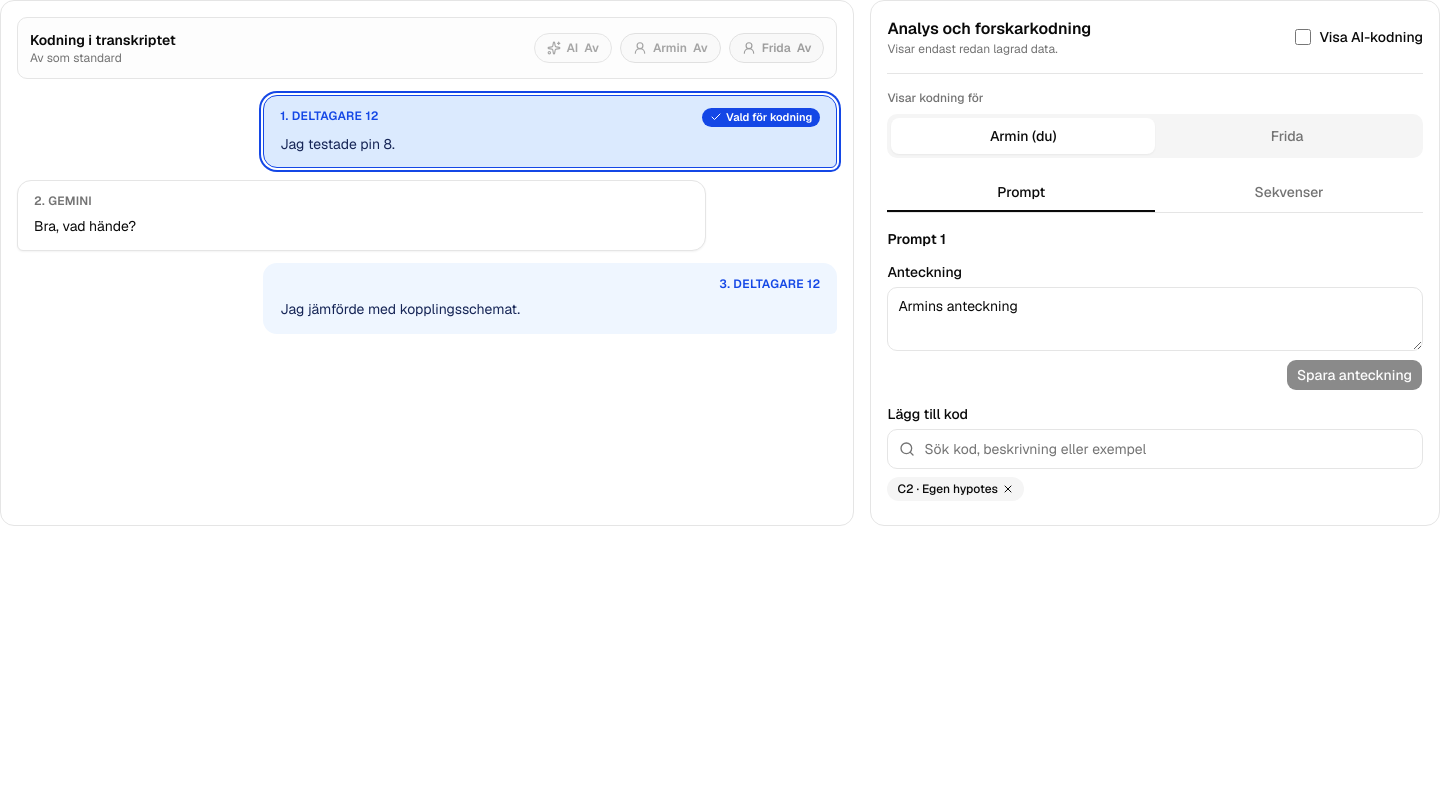
Test: TranscriptWorkspace › saving researcher coding › saves a prompt code as soon as it is chosen, without the unsaved note
This screenshot has width=1440, height=810.
Replace the text in the text box labelled "Anteckning" with "En tanke som inte är klar" at [1155, 319], box [887,287,1423,351]
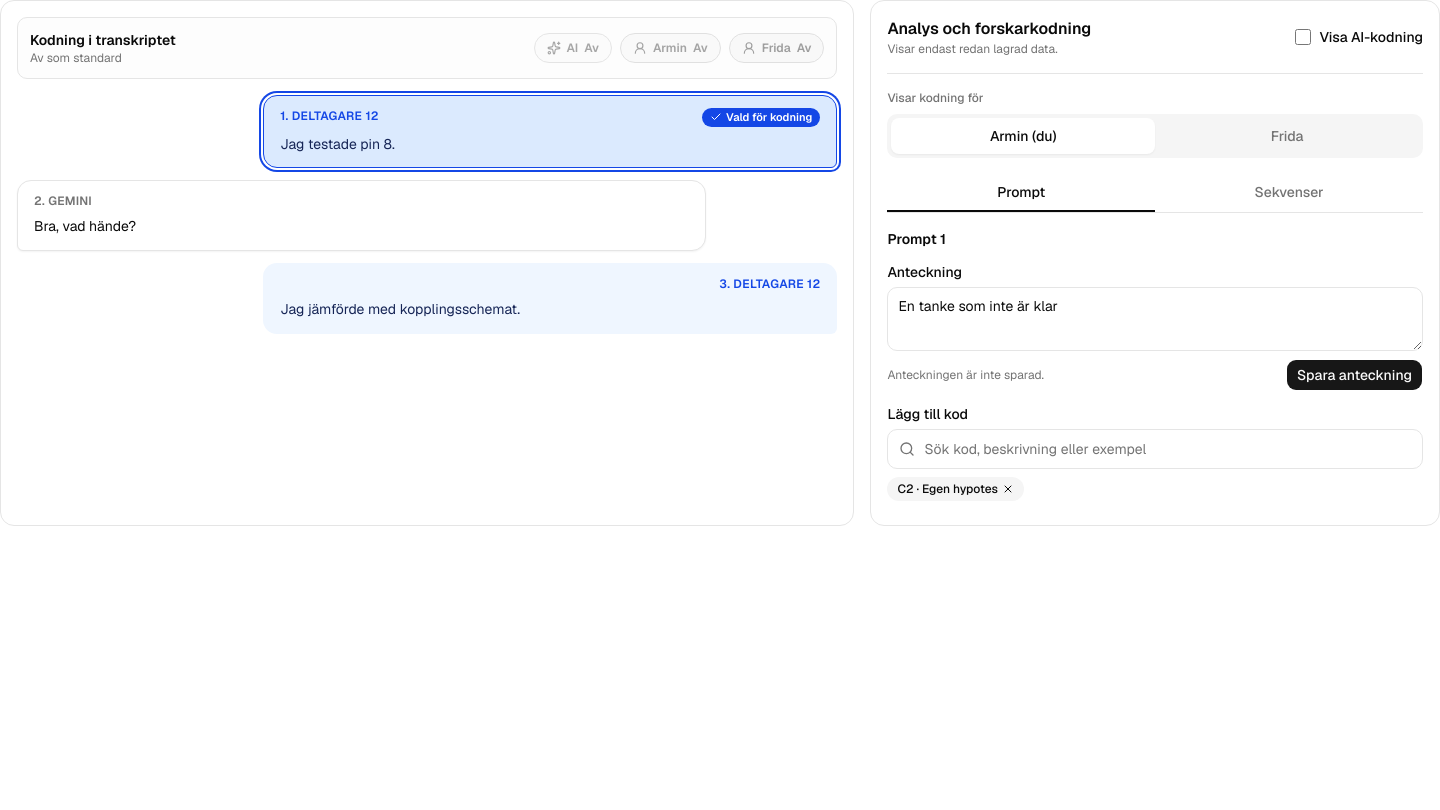
Type "noggrann" into the field with placeholder "Sök kod, beskrivning eller exempel" at [1155, 449], box [887,429,1423,469]
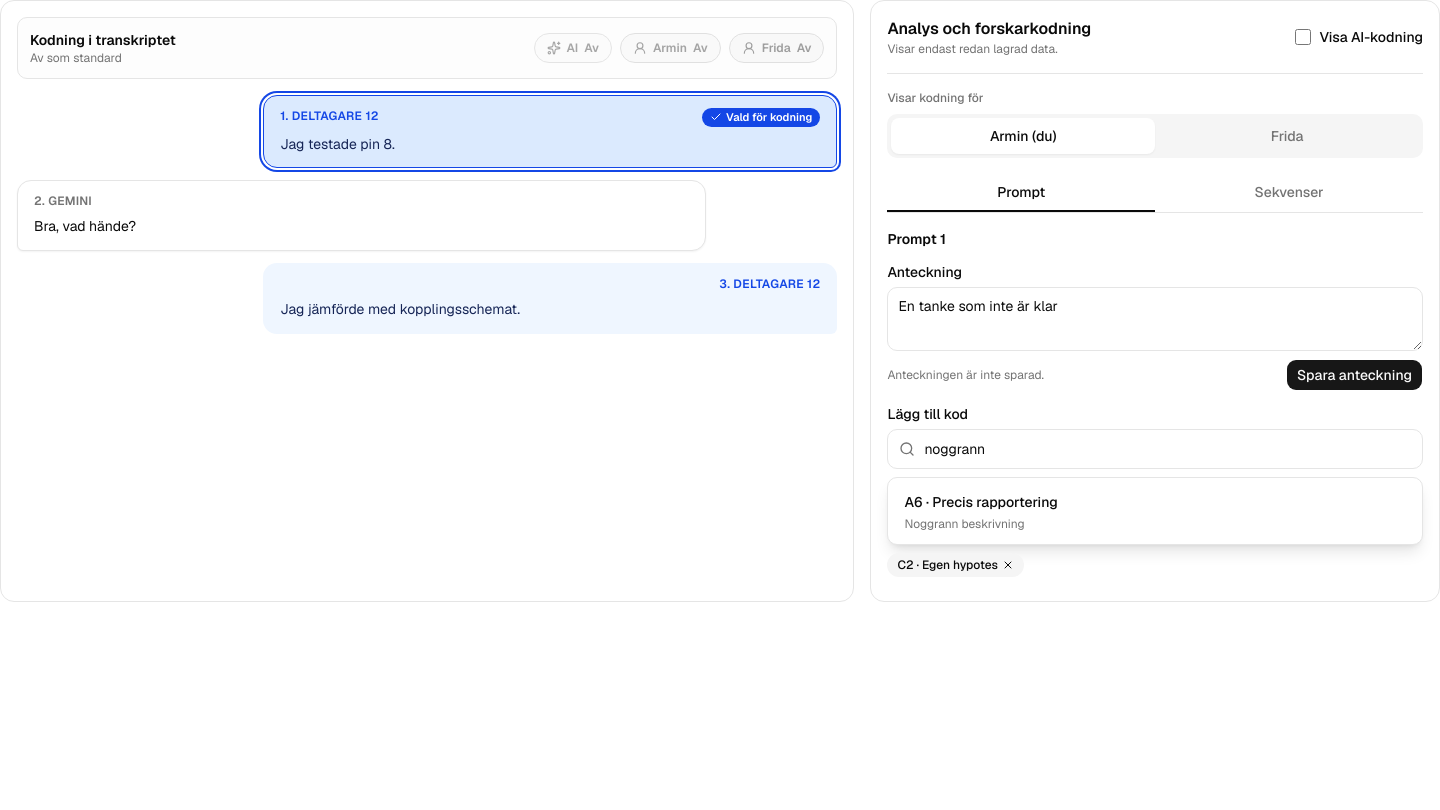
Click the button "A6 · Precis rapportering Noggrann beskrivning" at [995, 502], box [892,482,1418,540]
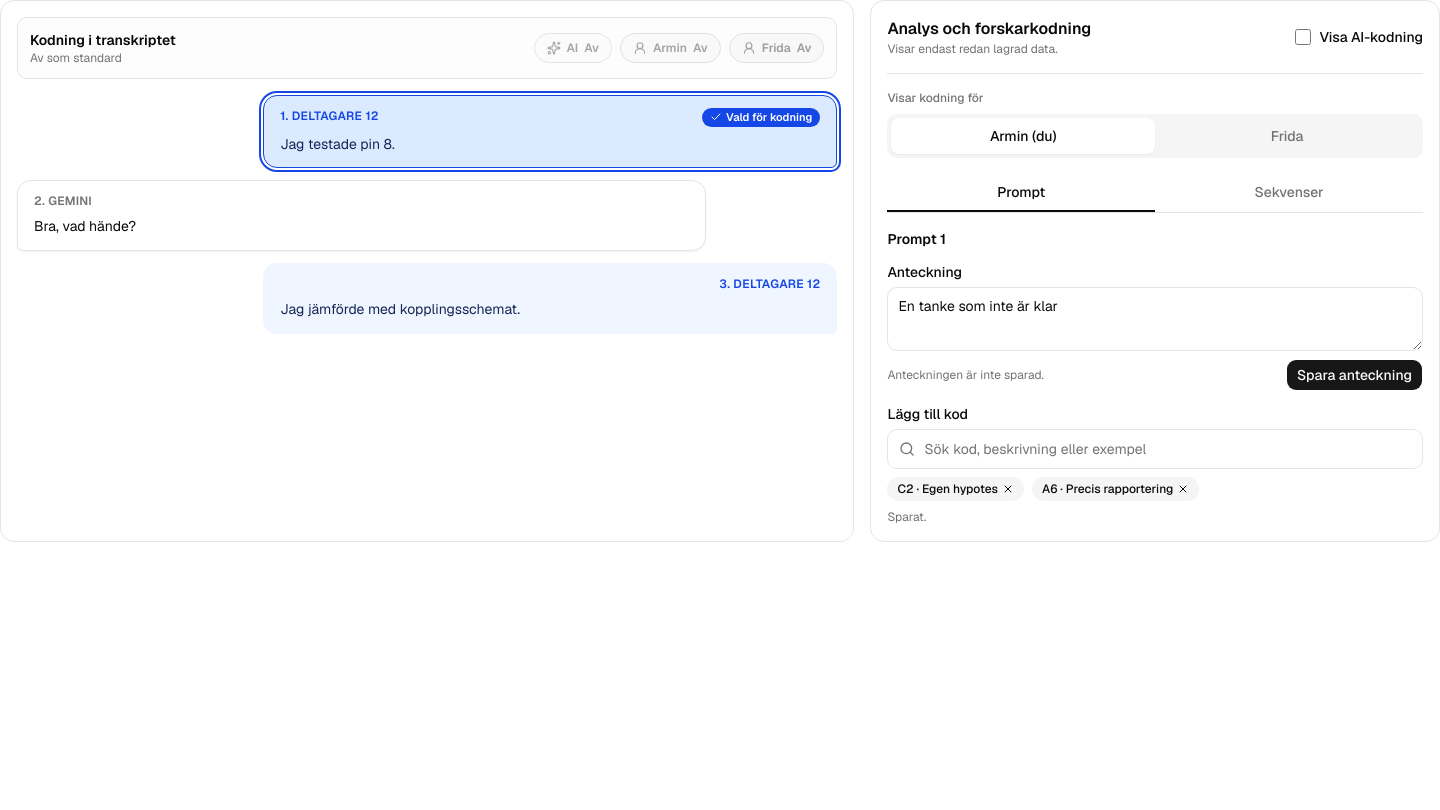
Result: the text "Anteckningen är inte sparad." is shown at [887,367,1044,383]
Result: the text "Sparat." is shown at [887,509,926,525]
Result: the button named "Ta bort A6" is shown at [1177,483,1189,495]
